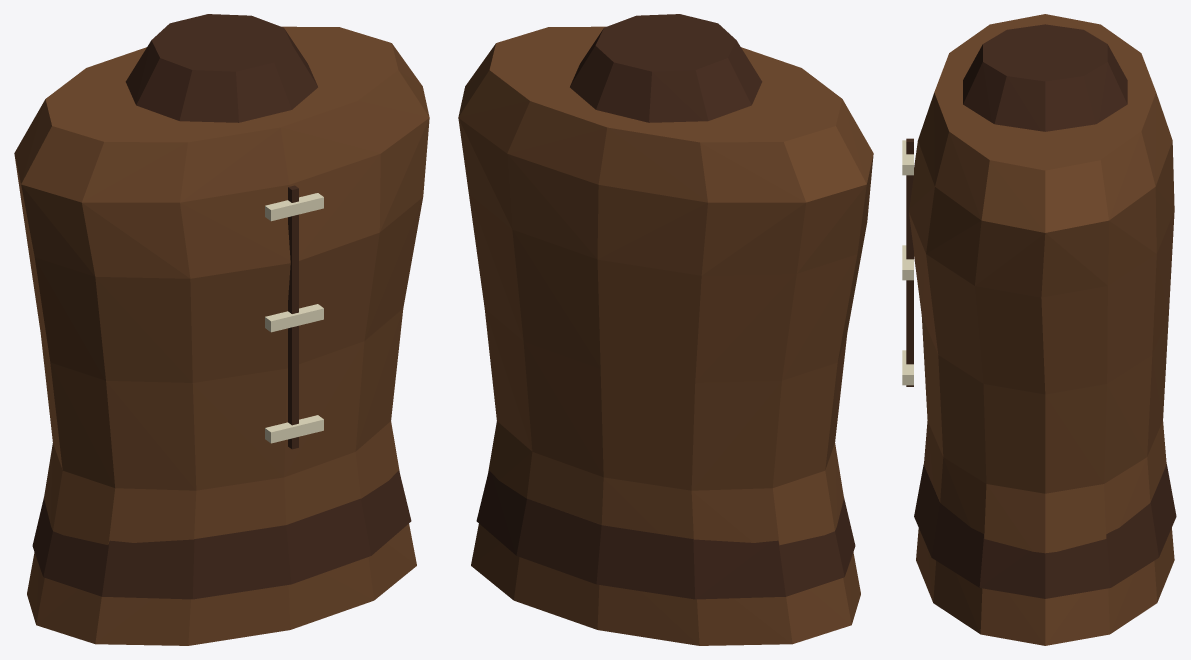
Rendered from gear_hard_body_torso_m.glb.
3 renders of one model, left to right at view 1: azimuth 30°, elevation 25°; view 2: azimuth 150°, elevation 25°; view 3: azimuth 270°, elevation 25°, orthographic. The views are drawn at different scales.
Parts seen in each view (by area): view 1: gear_hard_body_torso_m; view 2: gear_hard_body_torso_m; view 3: gear_hard_body_torso_m.
Part boxes in pixels (x1=…): gear_hard_body_torso_m: x1=14, y1=14, x2=429, y2=645; gear_hard_body_torso_m: x1=458, y1=14, x2=873, y2=645; gear_hard_body_torso_m: x1=902, y1=14, x2=1176, y2=645.
Bounding box in the file's own units: 0.454 × 0.58 × 0.284.
